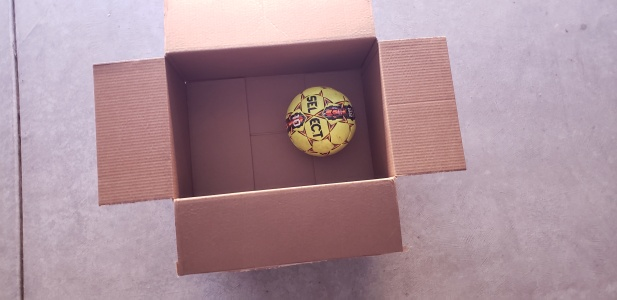innerbox: (163, 45, 385, 186)
outerbox: (92, 3, 461, 258)
product: (284, 85, 353, 158)
